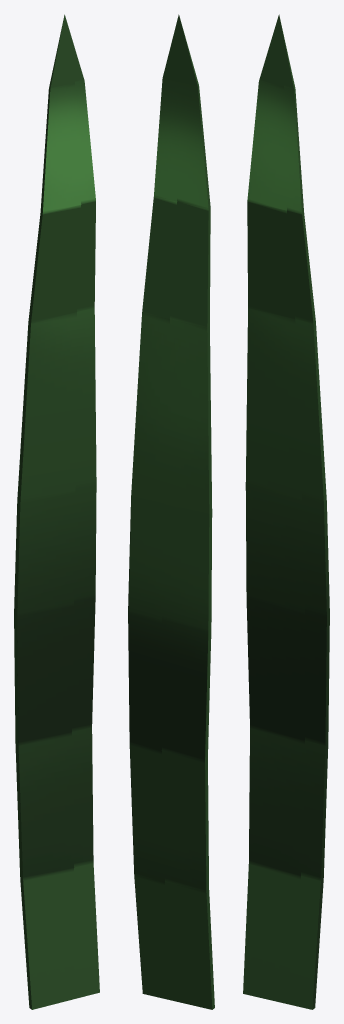
The model's file is onegrass.fbx.
3 renders of one model, left to right at view 1: azimuth 30°, elevation 25°; view 2: azimuth 150°, elevation 25°; view 3: azimuth 330°, elevation 25°, orthographic.
Parts seen in each view (by area): view 1: Cube.003; view 2: Cube.003; view 3: Cube.003.
Boxes of the visible parts, <box> form: Cube.003: <box>14,14,99,1009</box>; Cube.003: <box>128,14,214,1009</box>; Cube.003: <box>243,14,329,1009</box>.
Bounding box in the file's own units: 11.89 × 141 × 4.49.
